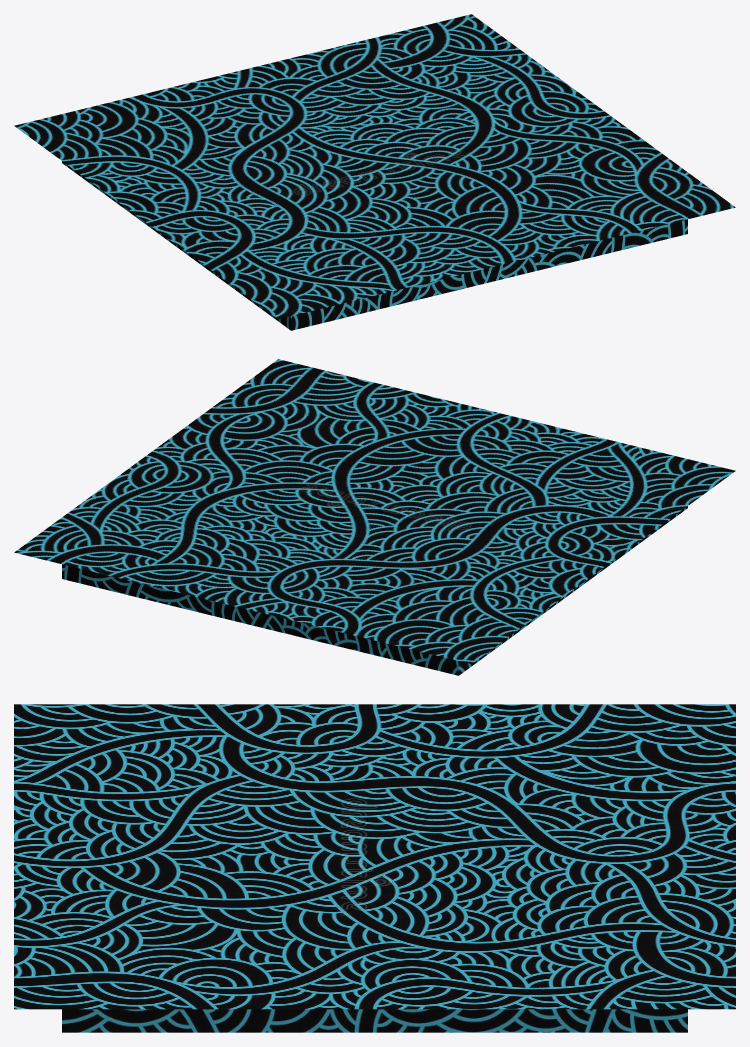
Rendered from FirstLevelPanel.fbx.
3 renders of one model, top to bottom at view 1: azimuth 30°, elevation 25°; view 2: azimuth 150°, elevation 25°; view 3: azimuth 270°, elevation 25°, orthographic. The views are drawn at different scales.
Parts seen in each view (by area): view 1: PanelFirstLevel, FirstLevel; view 2: PanelFirstLevel, FirstLevel; view 3: PanelFirstLevel, FirstLevel.
Boxes of the visible parts, x1,y1,x2,y2 form: PanelFirstLevel: (14, 14, 735, 319); FirstLevel: (62, 34, 687, 330); PanelFirstLevel: (14, 359, 735, 664); FirstLevel: (62, 379, 687, 675); PanelFirstLevel: (14, 704, 735, 1009); FirstLevel: (62, 724, 687, 1032).
Bounding box in the file's own units: 3000 × 200 × 3000.
